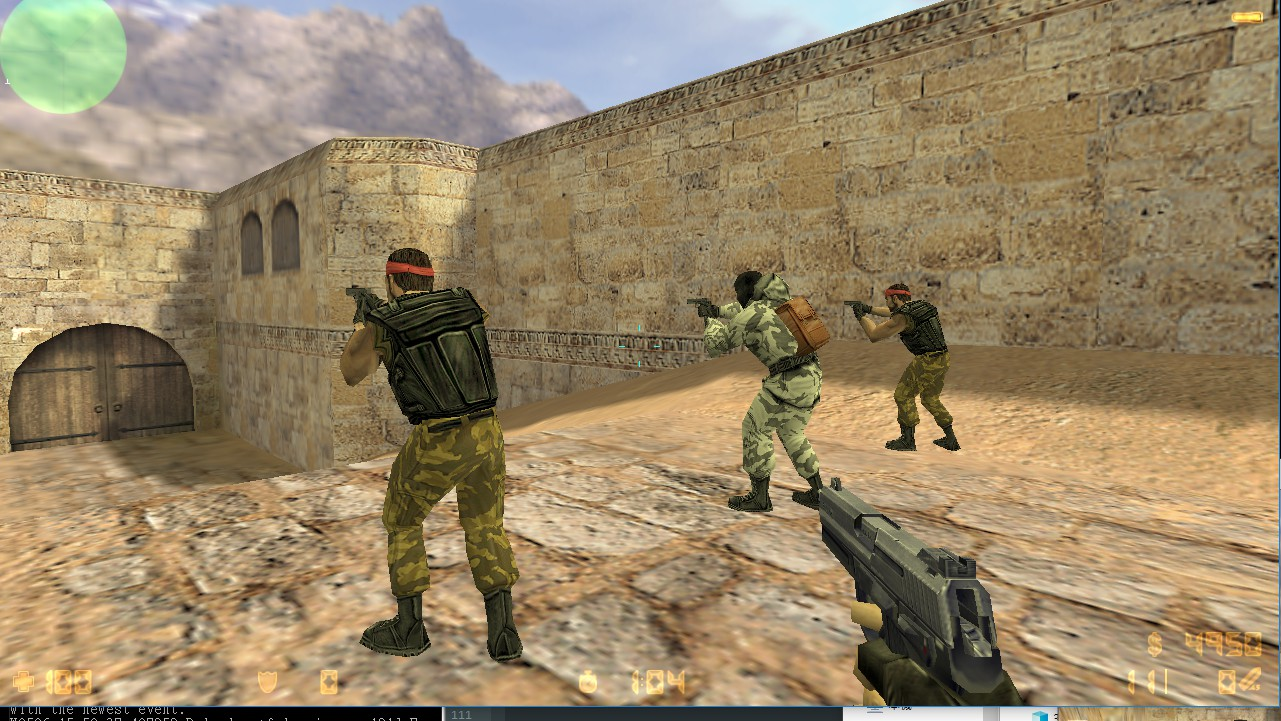person: (352, 241, 515, 664), (725, 258, 821, 507), (878, 281, 963, 456)
